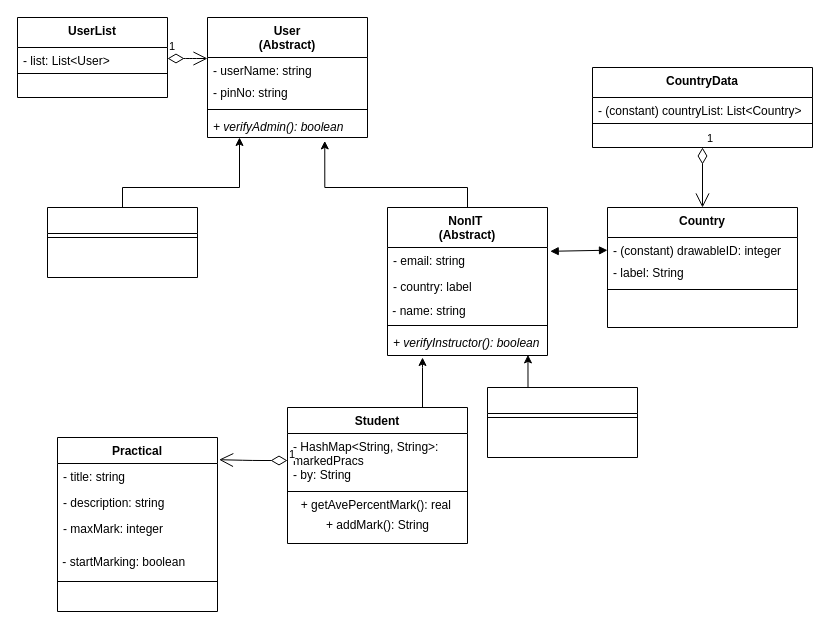
Image size: 830x629. Some labels were removed from this diagram. Here are the shapes that lost their labels. From the top down, the centre of each, then its label:
the point at 122,242: Admin
the point at 562,422: Instructor
